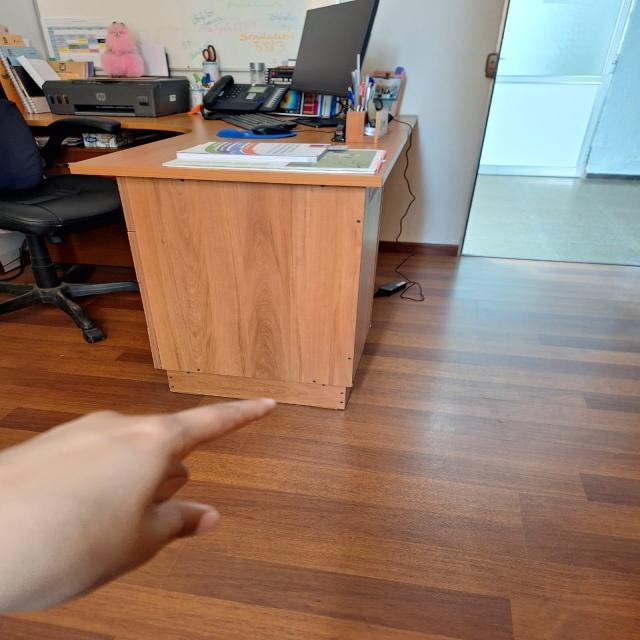S: (0, 390, 295, 612)
